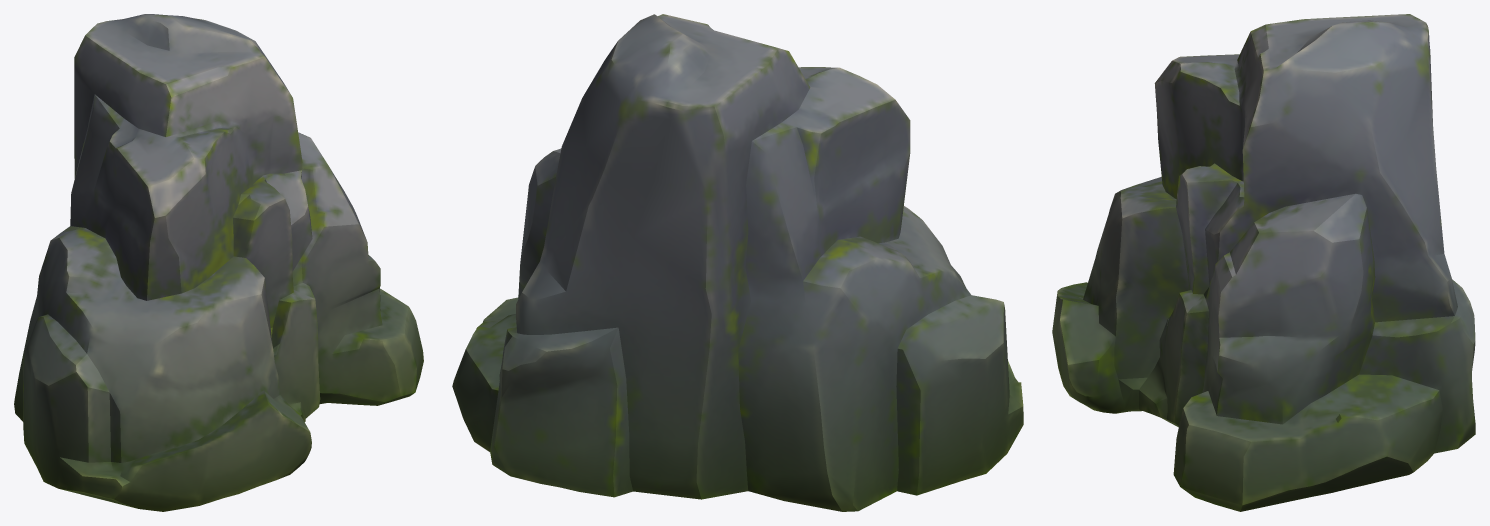
The model's file is nature_rock_big_1.glb.
The picture shows the model from 3 angles, left to right: view 1: azimuth 30°, elevation 25°; view 2: azimuth 150°, elevation 25°; view 3: azimuth 270°, elevation 25°; orthographic projection. The views are drawn at different scales.
Parts seen in each view (by area): view 1: nature_rock_big_1; view 2: nature_rock_big_1; view 3: nature_rock_big_1.
Part boxes in pixels (x1,y1,x2,y2): nature_rock_big_1: [14, 14, 423, 511]; nature_rock_big_1: [452, 14, 1023, 511]; nature_rock_big_1: [1052, 14, 1475, 511].
Size of the model in its own units: 520 by 458 by 445.
Materials: 1 (1 with a texture image).
